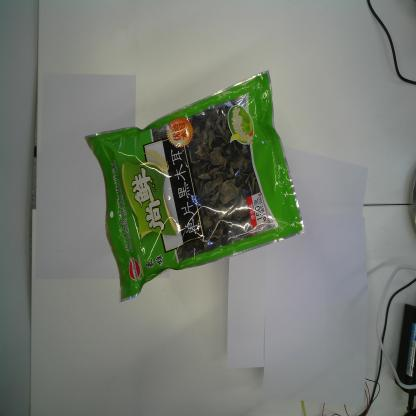Dried Food: (82, 67, 308, 306)
